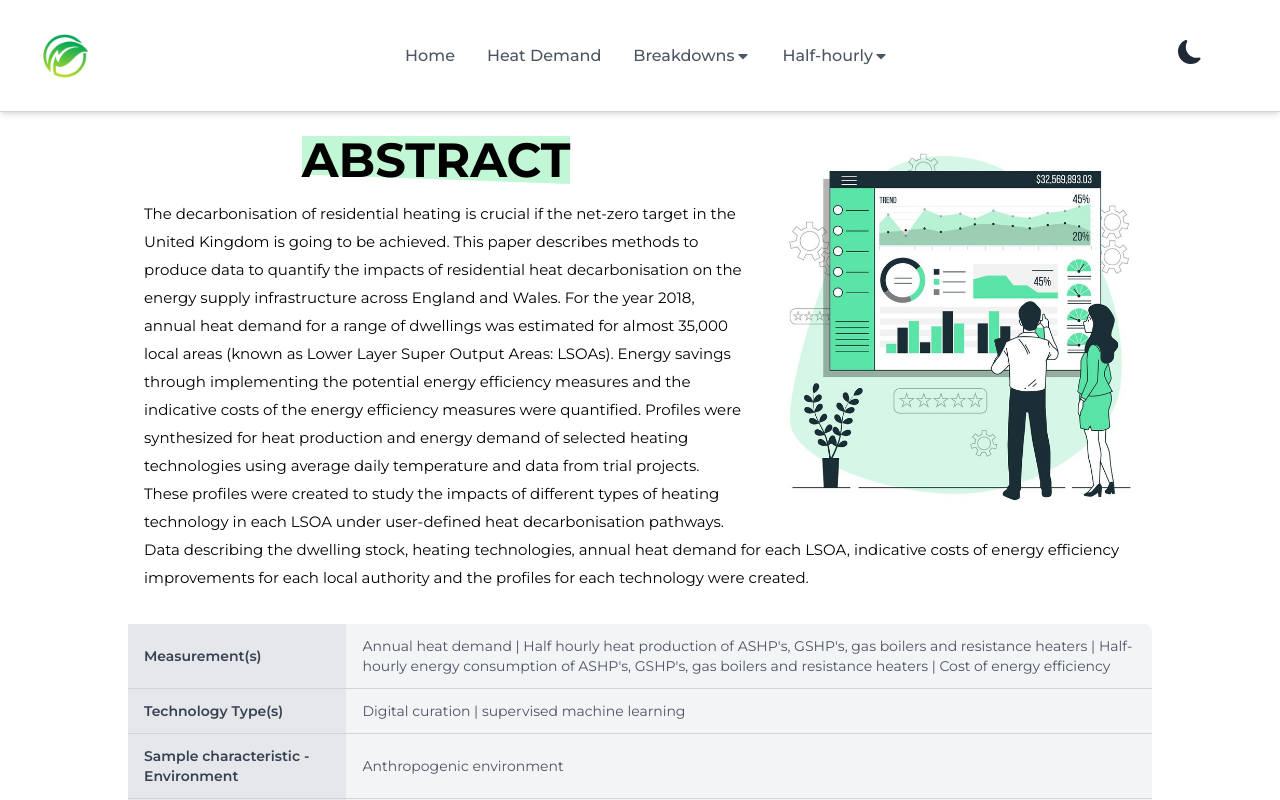
Scenario: Navbar › has a navigation link to Gas boilers that navigates to /half-hourly/gas-boilers
Click the button with test id "nav-half-hourly" at (836, 56), box [783,44,889,68]
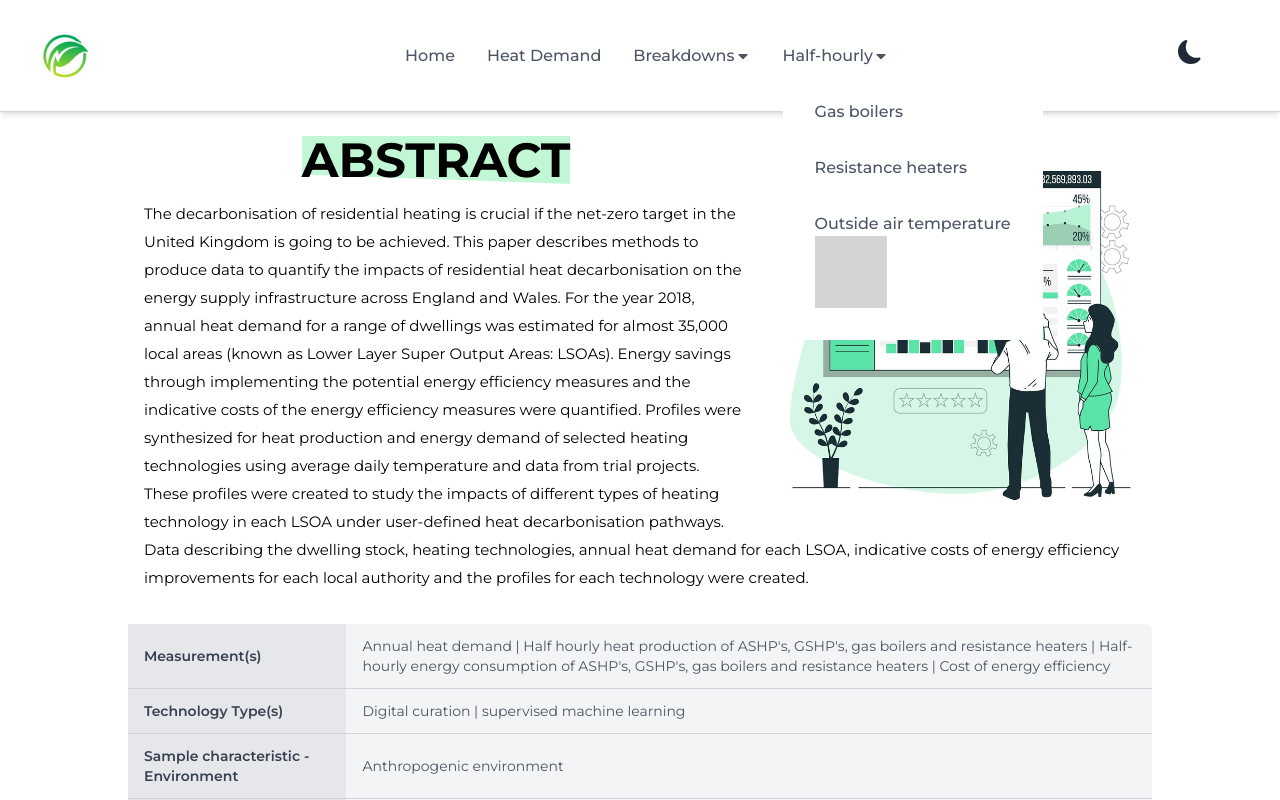
Expected: the link with test id "nav-half-hourly-gas-boilers" reads "Gas boilers", [815,102,904,121]
